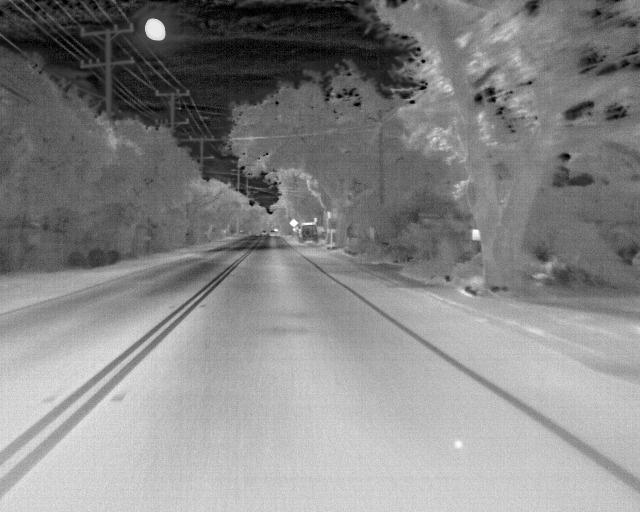car: (296, 222, 320, 243)
